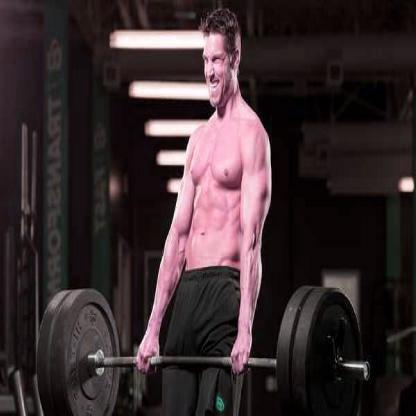Barbell: (359, 360, 369, 382)
